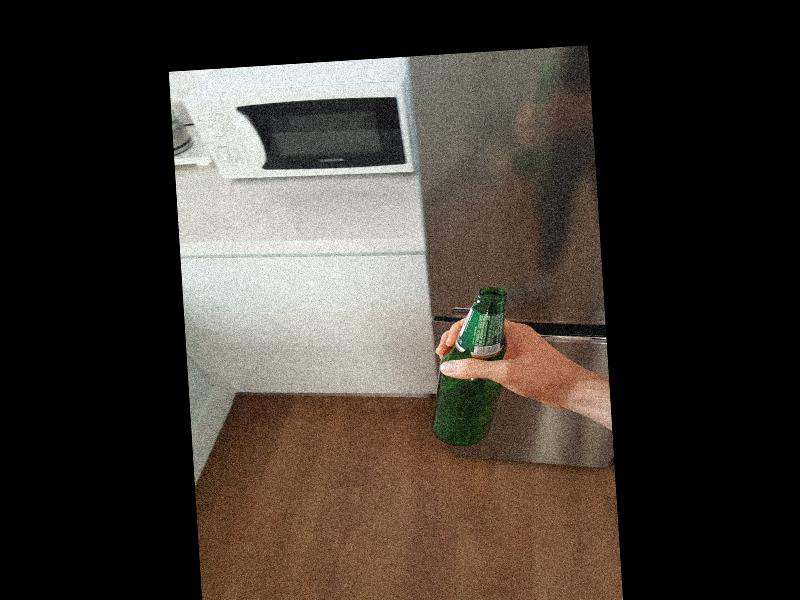Beer: (425, 286, 515, 448)
